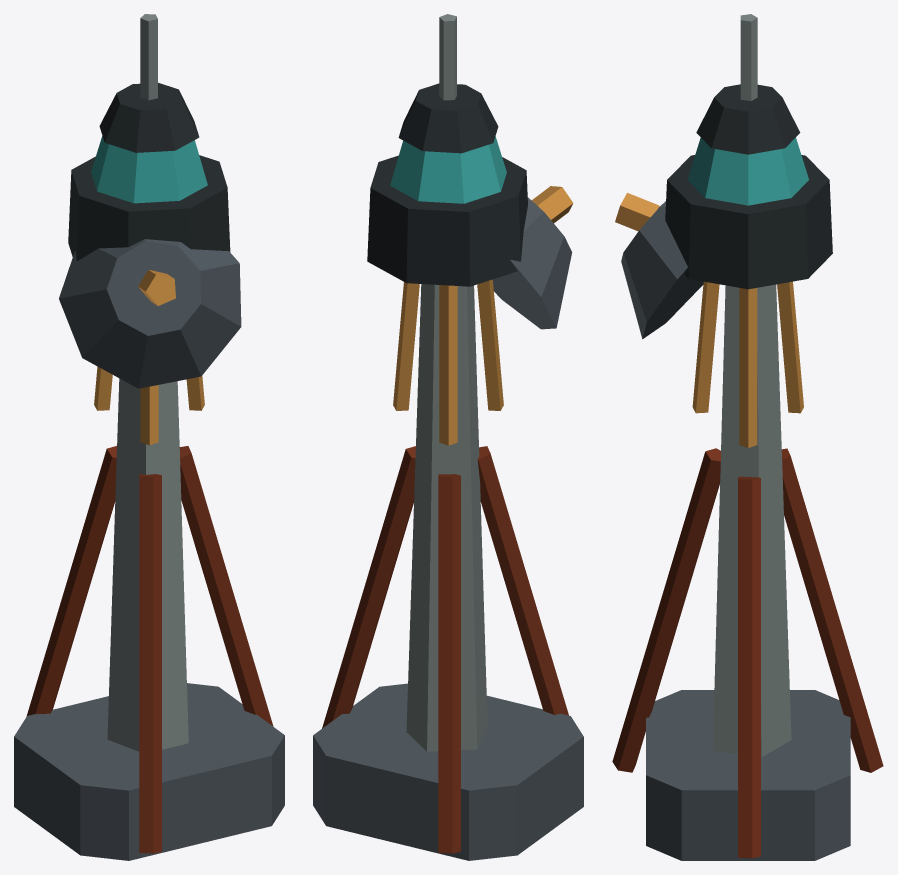
Rendered from rescue_beacon.glb.
The picture shows the model from 3 angles, left to right: view 1: azimuth 30°, elevation 25°; view 2: azimuth 150°, elevation 25°; view 3: azimuth 270°, elevation 25°; orthographic projection.
Parts seen in each view (by area): view 1: rescue_beacon; view 2: rescue_beacon; view 3: rescue_beacon.
Boxes of the visible parts, left/top/right/bottom form: rescue_beacon: left=14, top=14, right=284, bottom=860; rescue_beacon: left=313, top=14, right=583, bottom=860; rescue_beacon: left=612, top=14, right=883, bottom=860.
Size of the model in its own units: 0.8406 by 2.69 by 0.8338.
